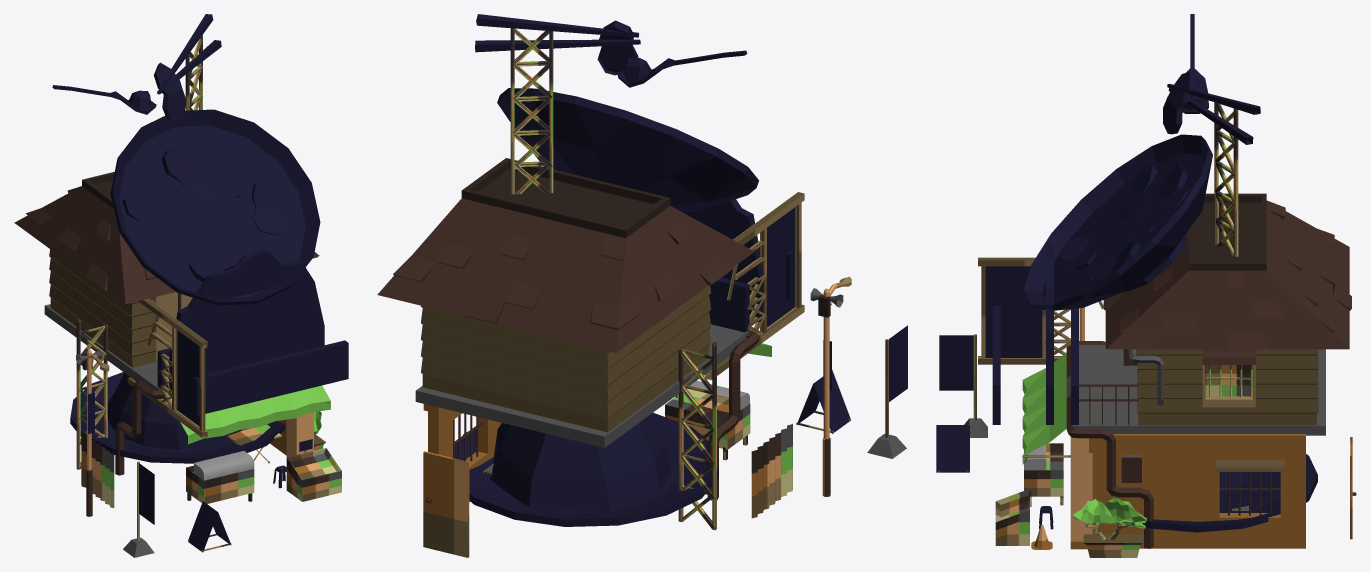
Rendered from House0529_2.FBX.
The picture shows the model from 3 angles, left to right: view 1: azimuth 30°, elevation 25°; view 2: azimuth 150°, elevation 25°; view 3: azimuth 270°, elevation 25°; orthographic projection. The views are drawn at different scales.
Parts seen in each view (by area): view 1: Cylinder011, Object018, Roof, 2F, Object023, Object021, Plane003, Object022, Object005, Iron sheet (×2), Box024, Object024 (+11 smaller); view 2: Roof, 2F, Cylinder011, Object022, Object021, Box004, Iron sheet (×2), Box021, Object019, Object024, Object005, Box001 (+8 smaller); view 3: Roof, Cylinder011, Box001, 2F, Box004, Plane004, Plane003, Box019, Object008, Object019, Cylinder007, Object005 (+14 smaller).
Part boxes in pixels (<box>): Cylinder011: <box>110,14,320,305</box>; Object018: <box>169,249,324,395</box>; Roof: <box>14,172,319,304</box>; 2F: <box>49,249,192,367</box>; Object023: <box>193,340,348,415</box>; Object021: <box>70,372,284,463</box>; Plane003: <box>169,385,330,444</box>; Object022: <box>107,373,241,450</box>; Object005: <box>127,298,207,437</box>; Iron sheet (×2): <box>76,349,114,516</box>; Box024: <box>286,448,341,501</box>; Object024: <box>76,319,107,469</box>; Roof: <box>377,158,754,352</box>; 2F: <box>421,285,711,432</box>; Cylinder011: <box>475,14,758,212</box>; Object022: <box>490,415,671,511</box>; Object021: <box>454,412,718,526</box>; Box004: <box>415,324,748,447</box>; Iron sheet (×2): <box>751,276,851,518</box>; Box021: <box>423,451,469,557</box>; Object019: <box>510,28,553,194</box>; Object024: <box>678,342,716,530</box>; Object005: <box>704,192,804,380</box>; Box001: <box>423,404,501,502</box>; Roof: <box>1103,193,1351,349</box>; Cylinder011: <box>1024,72,1260,310</box>; Box001: <box>1089,434,1305,548</box>; 2F: <box>1137,349,1318,425</box>; Box004: <box>1073,345,1325,435</box>; Plane004: <box>985,266,1042,357</box>; Plane003: <box>1022,352,1066,464</box>; Box019: <box>1072,498,1146,557</box>; Object008: <box>1202,349,1255,407</box>; Object019: <box>1214,102,1238,257</box>; Cylinder007: <box>1066,341,1153,548</box>; Object005: <box>978,257,1103,364</box>.
Bounding box in the file's own units: 880 × 1318 × 1162.
